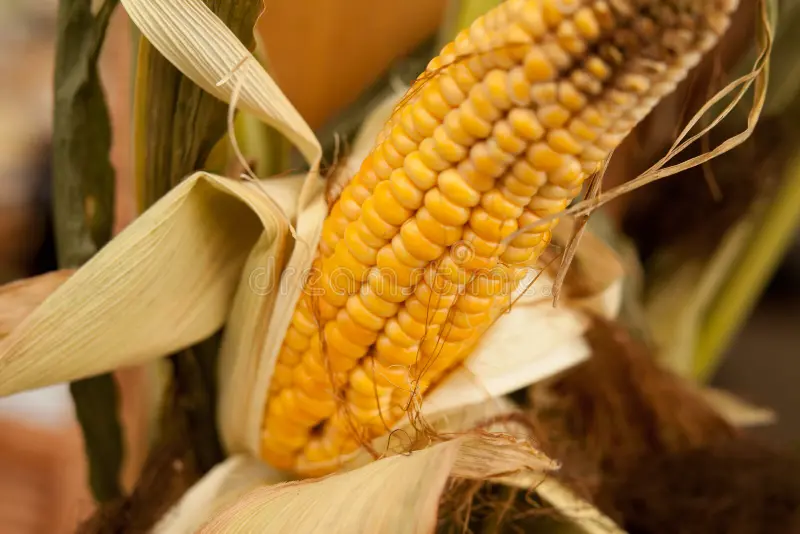rotten corn: (284, 3, 751, 494)
